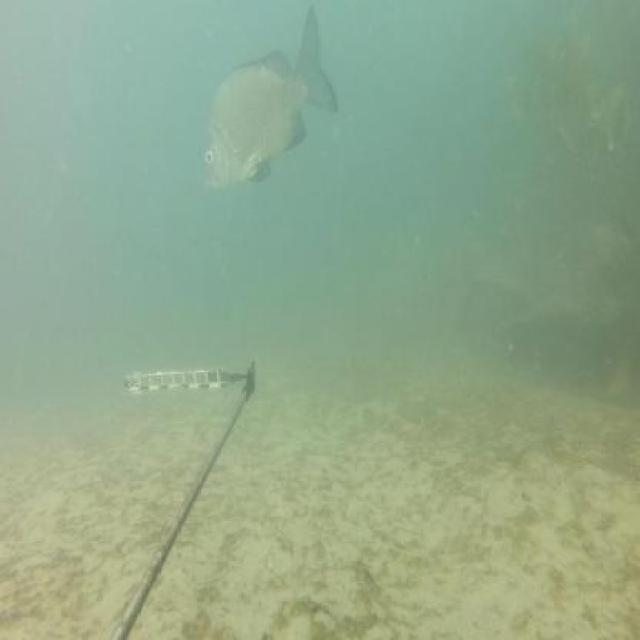acanthopagrus_palmaris: (203, 2, 340, 196)
